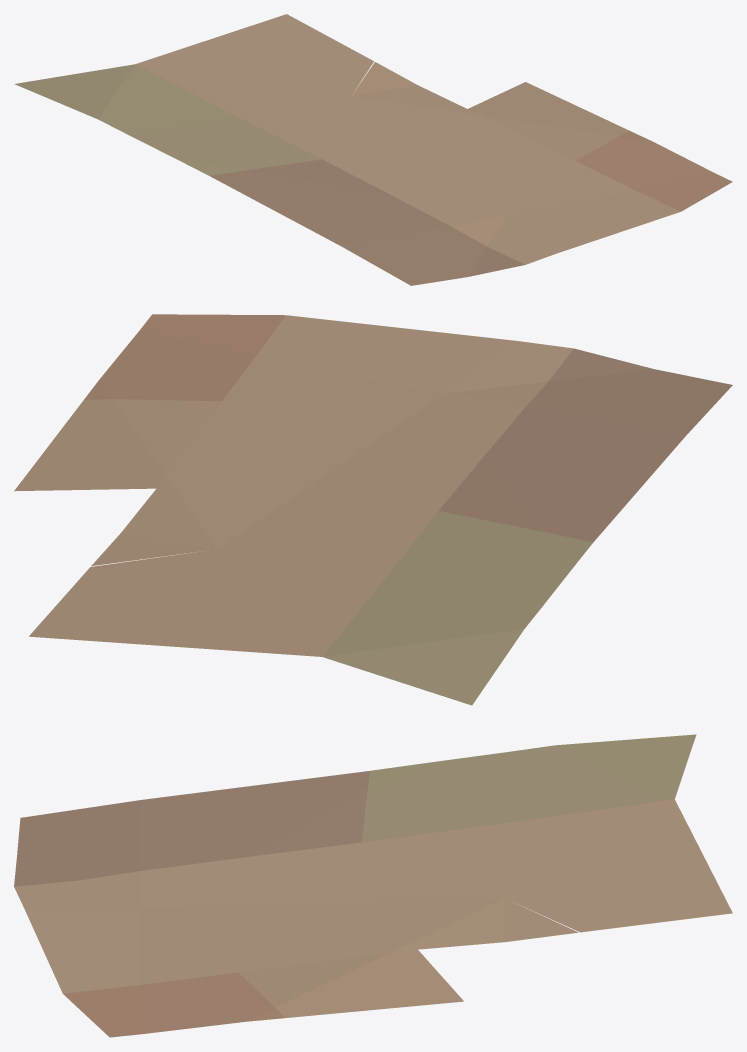
File: farm_36_27_soil.glb
The picture shows the model from 3 angles, top to bottom: view 1: azimuth 30°, elevation 25°; view 2: azimuth 150°, elevation 25°; view 3: azimuth 270°, elevation 25°; orthographic projection. The views are drawn at different scales.
Parts seen in each view (by area): view 1: geometry_0; view 2: geometry_0; view 3: geometry_0.
Part boxes in pixels (x1=…): geometry_0: x1=14, y1=14, x2=732, y2=285; geometry_0: x1=14, y1=314, x2=732, y2=705; geometry_0: x1=14, y1=734, x2=732, y2=1037.
Bounding box in the file's own units: 140 × 9.07 × 158.
